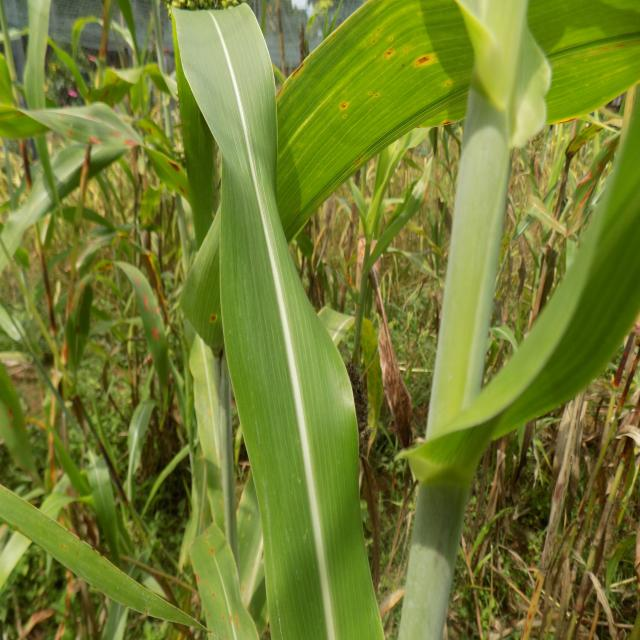millet_healthy: (162, 0, 390, 640)
